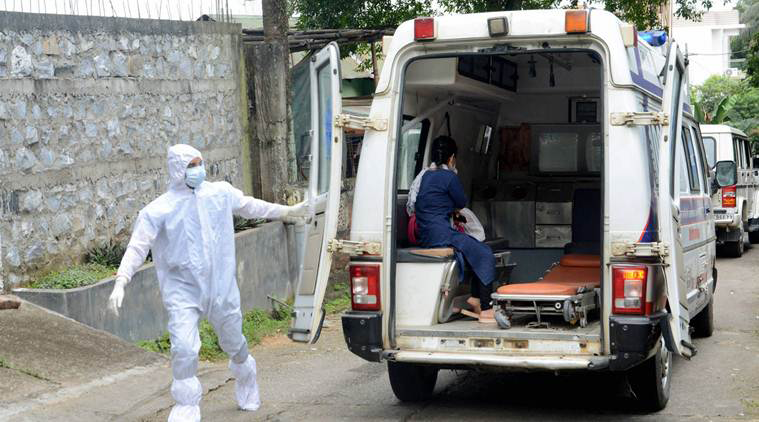Coverall: (119, 142, 285, 420)
Gloves: (109, 276, 129, 318), (285, 201, 310, 222)
with_mask: (184, 160, 204, 186)
